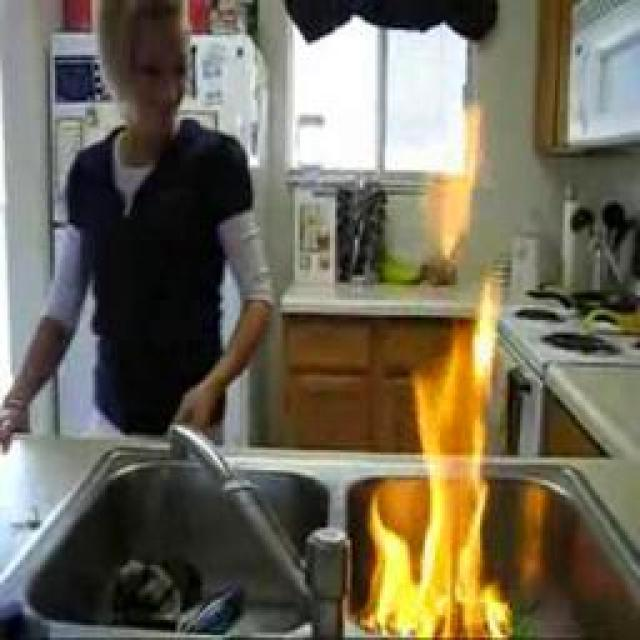Fire: (372, 311, 505, 640), (407, 98, 501, 276)
